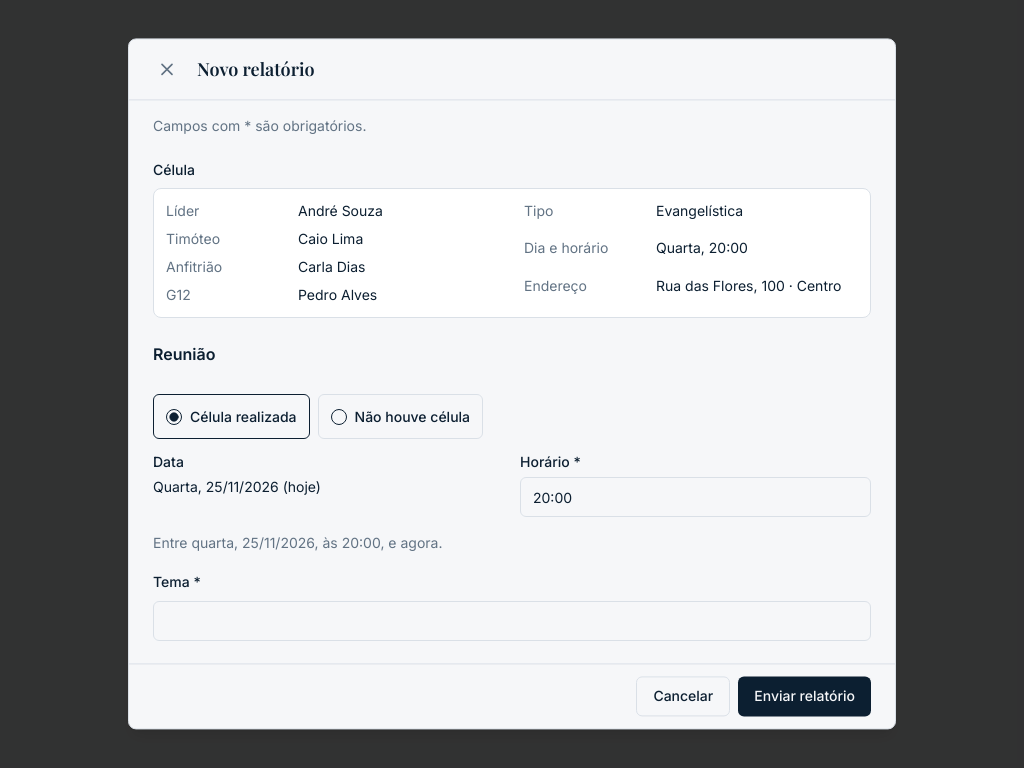
Test: RN-11, UX-20: participantes automáticos › o líder, o timóteo e o anfitrião aparecem fixos (sem ✕), contados, e não vão na lista de escolhidos
Later steps or results of the test are not shown.
Type "A fé que vence" into the field labelled "Tema *". click: (512, 622)
box: [153,602,871,642]
(page scrolled)
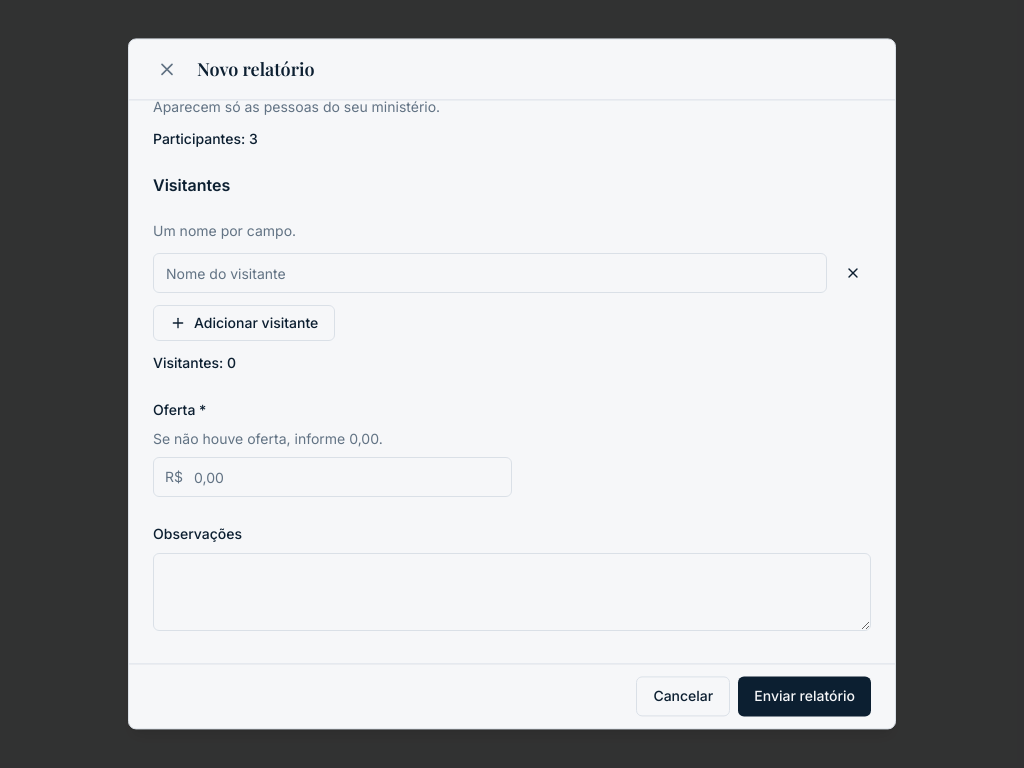
Type "0" into the field labelled "Oferta *". click: (332, 478)
box: [153,458,512,498]
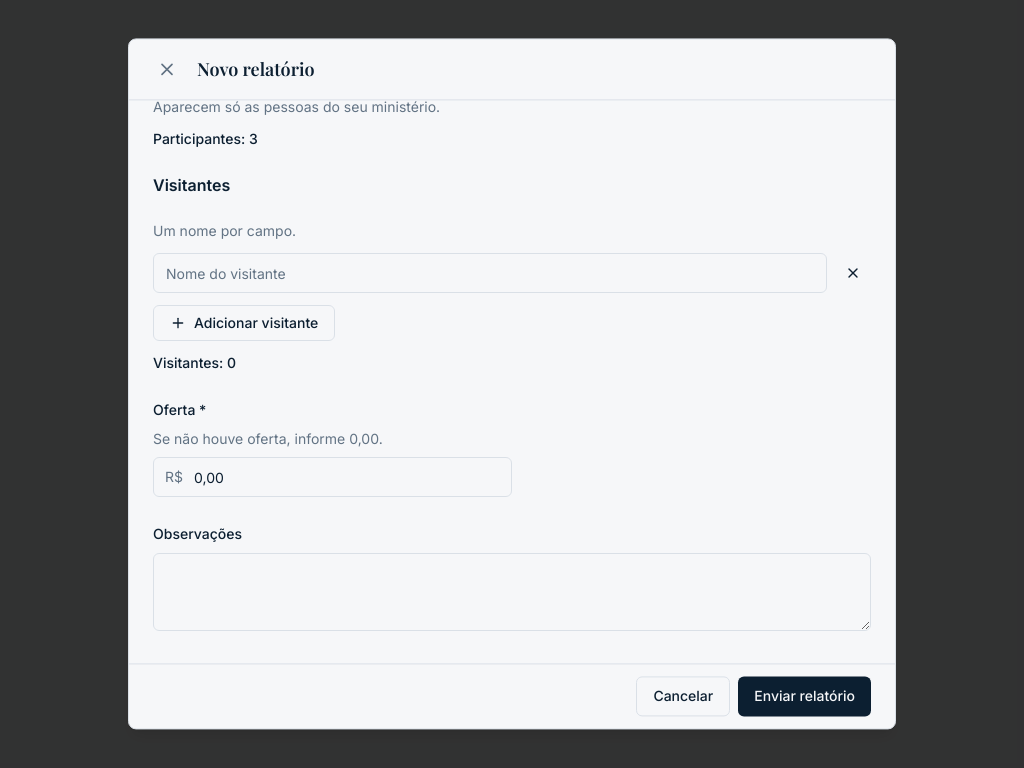
Expected: the text "Participantes: 3" is shown, [153,131,258,148]
